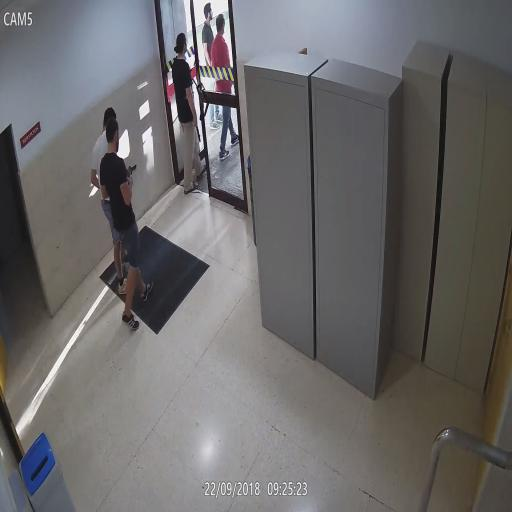Handgun: (126, 161, 138, 180)
